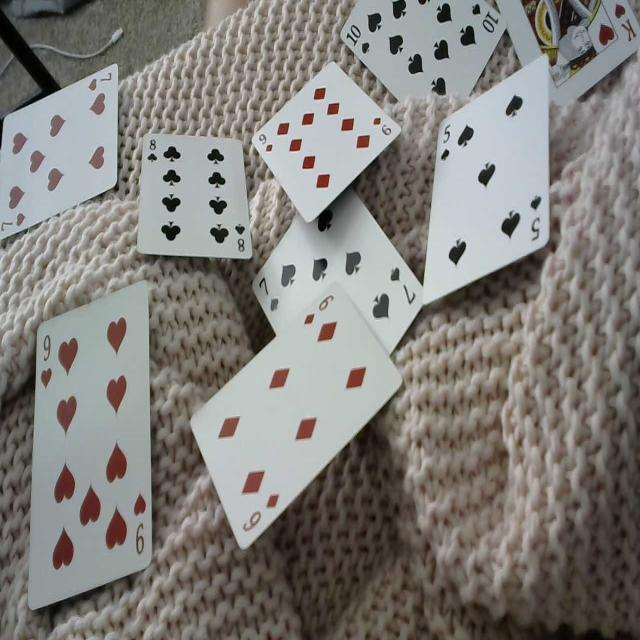10S: (470, 0, 501, 39), (344, 22, 372, 57)
5S: (528, 188, 542, 244), (438, 117, 452, 162)
6D: (240, 489, 280, 538), (302, 290, 336, 328)
7H: (0, 204, 27, 233), (88, 67, 114, 95)
7S: (387, 263, 418, 304), (257, 276, 281, 316)
8C: (232, 219, 248, 253), (146, 135, 160, 165)
9D: (370, 113, 394, 142), (256, 130, 276, 153)
9H: (131, 490, 148, 561), (38, 331, 52, 393)
KH: (610, 0, 638, 46)
